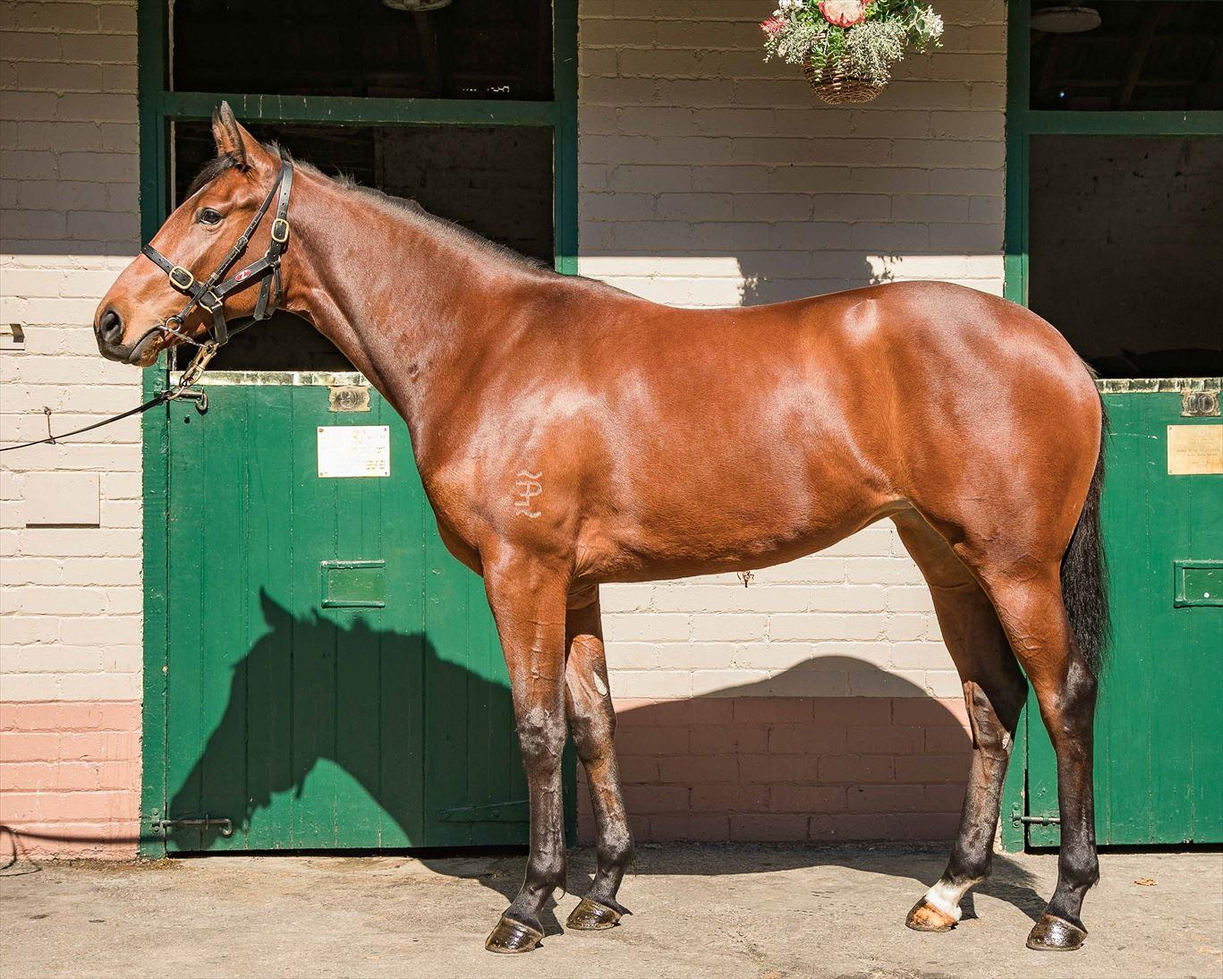horse: (84, 91, 1121, 963)
